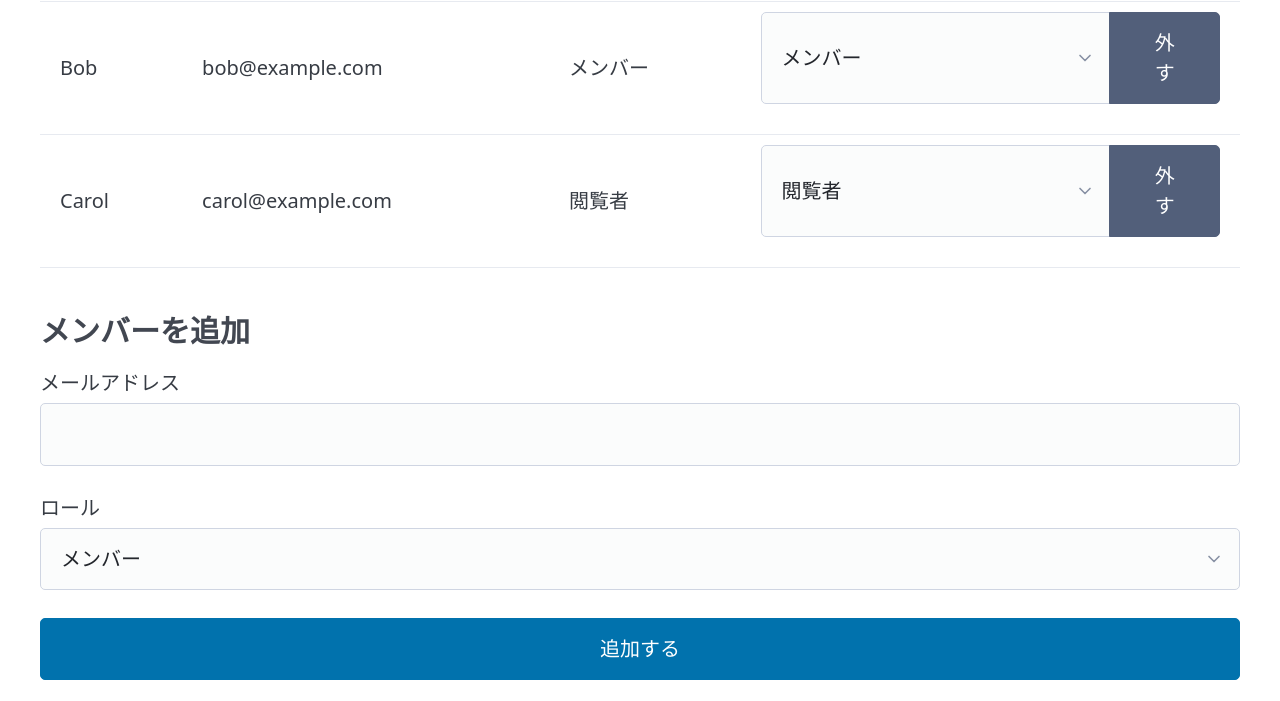
メンバー追加 › 権限が無ければ(403)、詳細を取り直して現在のロールで表示する
(page scrolled)
Expected: the cell "Bob" is shown, top-left (40, 2), bottom-right (182, 134)
Type "dave@example.com" into the field labelled "メールアドレス" at (640, 435), box top-left (40, 403), bottom-right (1240, 466)
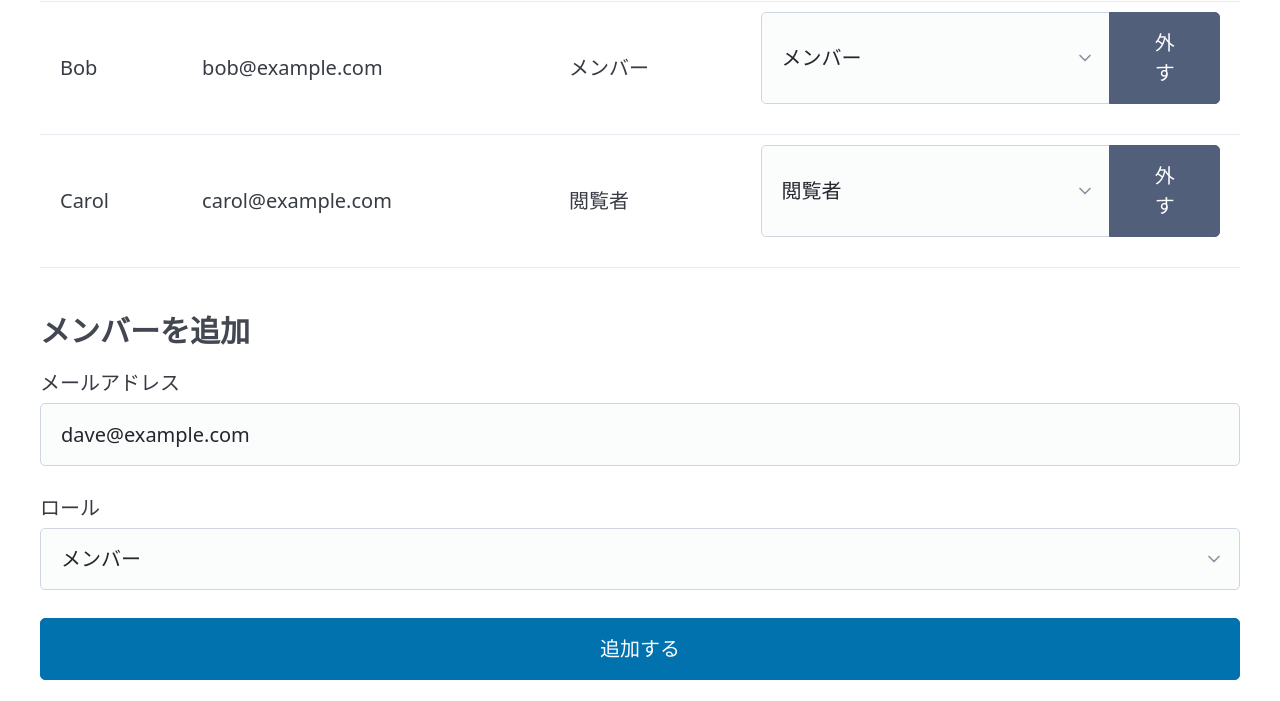
Select "メンバー" in the dropdown labelled "ロール" at (640, 559), box top-left (40, 528), bottom-right (1240, 590)
Click the button "追加する" at (640, 649), box top-left (40, 618), bottom-right (1240, 680)
(page scrolled)
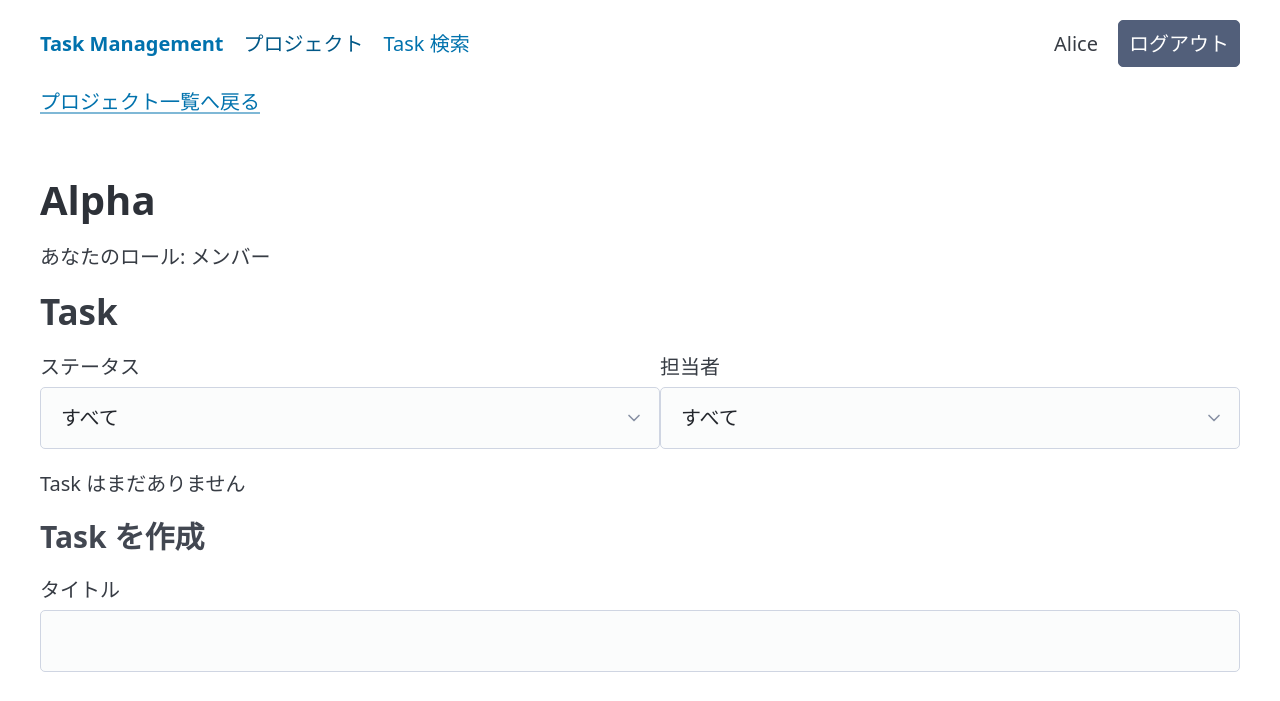
Expected: the button "追加する" is gone
Expected: the text "あなたのロール: メンバー" is shown, top-left (40, 243), bottom-right (271, 270)
